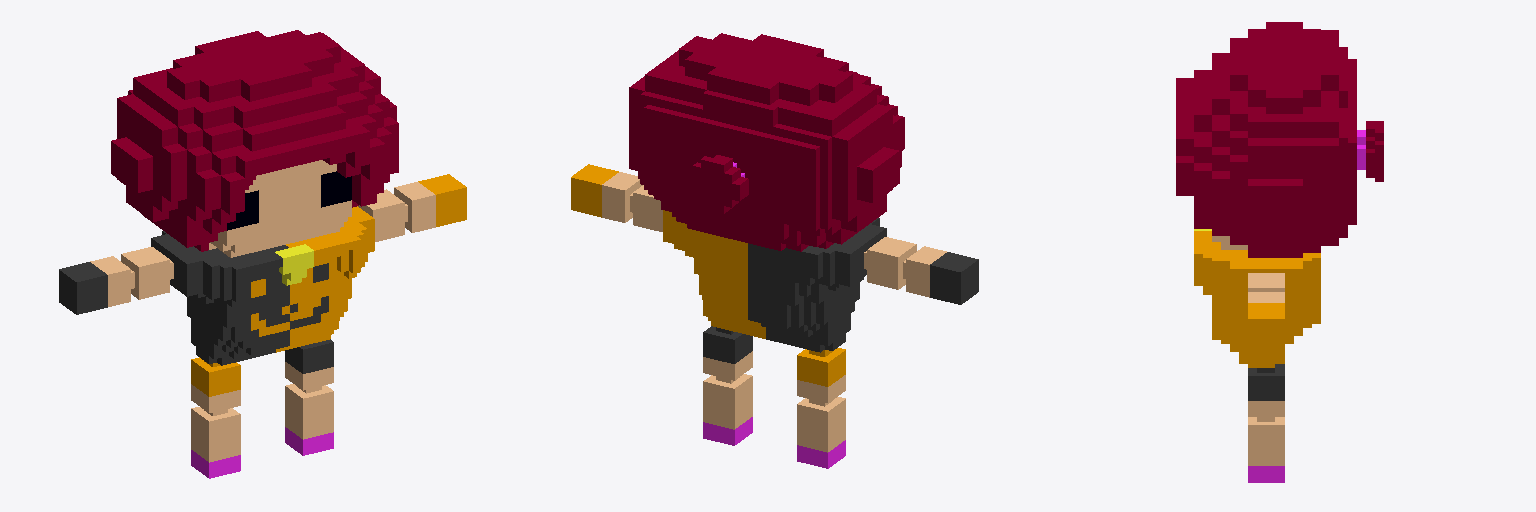
3 views of the same model, side by side, from view 1: azimuth 30°, elevation 25°; view 2: azimuth 150°, elevation 25°; view 3: azimuth 270°, elevation 25° (orthographic).
Parts seen in each view (by area): view 1: object 1; view 2: object 1; view 3: object 1.
Part boxes in pixels (bbox=[...]): object 1: bbox=[59, 30, 466, 478]; object 1: bbox=[571, 33, 978, 468]; object 1: bbox=[1176, 22, 1383, 482].
Bounding box in the file's own units: 5 × 4.8 × 2.3.
1 materials, 1 textured.